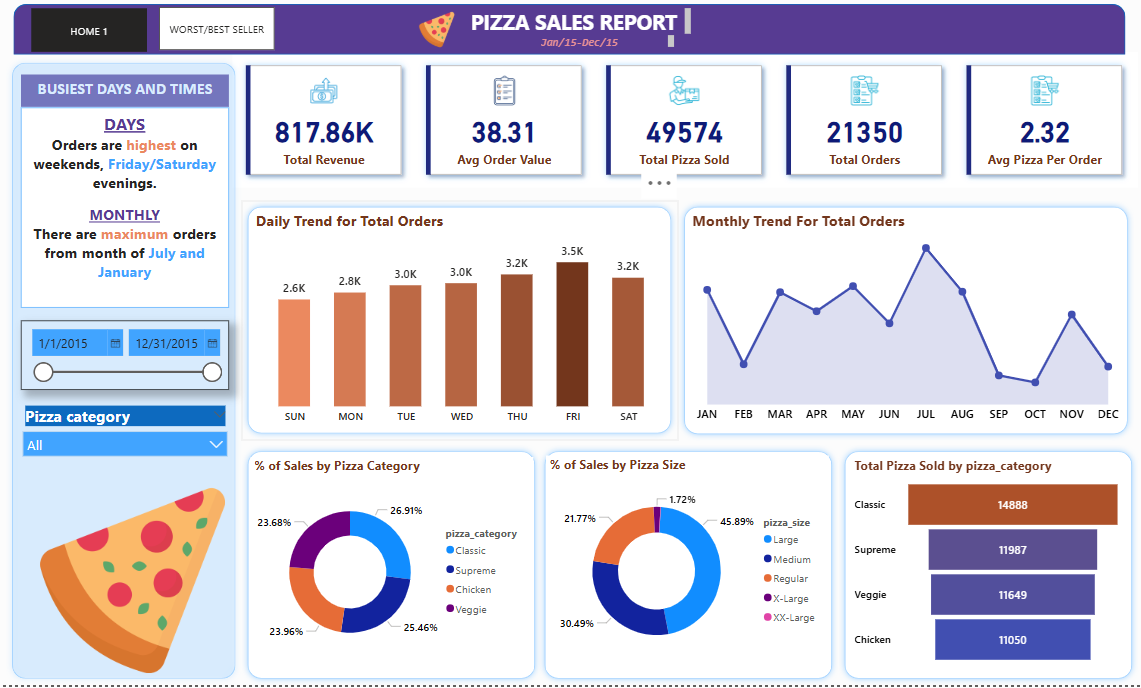

The dashboard page shown, as its layout file describes it:
{"tool":"powerbi","page":{"name":"HOME 1","canvas":[1500,900],"ordinal":0},"visuals":[{"type":"cardVisual","fields":{"Data":["pizza_sales.Total Revenue","pizza_sales.Avg Order Value","pizza_sales.Total Pizza Sold","pizza_sales.Total Orders","pizza_sales.Avg Pizza Per Order"]},"box":[310,78,1176,176],"z":0},{"type":"textbox","box":[36,108,270,42],"z":500},{"type":"shape","box":[25.7,15.7,1444.3,65.7],"z":1000},{"type":"textbox","box":[614.1,16,296.4,44.4],"z":2000},{"type":"textbox","box":[704.6,51.5,182.8,31.9],"z":3000},{"type":"image","box":[536,19.5,78.1,58.6],"z":4000},{"type":"shape","box":[321.3,271.6,566.2,310.6],"z":5000},{"type":"columnChart","title":"Daily Trend for Total Orders","fields":{"Category":["pizza_sales.Order Day"],"Y":["pizza_sales.Total Orders"]},"box":[335.5,284,544.9,285.8],"z":6000},{"type":"shape","box":[888.3,270.8,592.2,311.7],"z":7000},{"type":"areaChart","title":"Monthly Trend For Total Orders","fields":{"Y":["pizza_sales.Total Orders"],"Category":["pizza_sales.Order Month"]},"box":[901.9,284.4,568.8,284.4],"z":8000},{"type":"shape","box":[321.4,588.3,389.6,311.7],"z":9000},{"type":"shape","box":[707.1,588.3,389.6,311.7],"z":10000},{"type":"shape","box":[1096.8,588.3,389.6,311.7],"z":11000},{"type":"donutChart","title":"% of Sales by Pizza Category","fields":{"Category":["pizza_sales.pizza_category"],"Y":["pizza_sales.Total Revenue"]},"box":[332.9,604.3,367.1,277.1],"z":12000},{"type":"donutChart","title":"% of Sales by Pizza Size","fields":{"Y":["pizza_sales.Total Revenue"],"Category":["pizza_sales.pizza_size"]},"box":[717.1,602.9,367.1,278.6],"z":13000},{"type":"shape","box":[16,84,306,816],"z":13500},{"type":"funnel","fields":{"Category":["pizza_sales.pizza_category"],"Y":["pizza_sales.Total Pizza Sold"]},"box":[1112.9,604.3,357.1,277.1],"z":14000},{"type":"textbox","box":[36,150,270,260],"z":14001},{"type":"image","box":[48,632,262,266],"z":14002},{"type":"slicer","fields":{"Values":["pizza_sales.pizza_category"]},"box":[28,532,286,74],"z":14003},{"type":"slicer","fields":{"Values":["pizza_sales.order_date"]},"box":[36,426,270,90],"z":14004},{"type":"pageNavigator","box":[48,22,150,56],"z":14005},{"type":"pageNavigator","box":[214,20,150,56],"z":14006}]}

Visuals, with their boxes in screenshot pixels (x1, y1, x2, y2), scaled from the page's 1500x900 canvas onto the 1141x688 screenshot:
cardVisual - pizza_sales.Total Revenue x pizza_sales.Avg Order Value: detection(236, 60, 1130, 194)
textbox: detection(27, 83, 233, 115)
shape: detection(20, 12, 1118, 62)
textbox: detection(467, 12, 693, 46)
textbox: detection(536, 39, 675, 64)
image: detection(408, 15, 467, 60)
shape: detection(244, 208, 675, 445)
"Daily Trend for Total Orders" columnChart: detection(255, 217, 670, 436)
shape: detection(676, 207, 1126, 445)
"Monthly Trend For Total Orders" areaChart: detection(686, 217, 1119, 435)
shape: detection(244, 450, 541, 687)
shape: detection(538, 450, 834, 687)
shape: detection(834, 450, 1131, 687)
"% of Sales by Pizza Category" donutChart: detection(253, 462, 532, 674)
"% of Sales by Pizza Size" donutChart: detection(545, 461, 825, 674)
shape: detection(12, 64, 245, 687)
funnel - pizza_sales.pizza_category x pizza_sales.Total Pizza Sold: detection(847, 462, 1118, 674)
textbox: detection(27, 115, 233, 313)
image: detection(37, 483, 236, 686)
slicer - pizza_sales.pizza_category: detection(21, 407, 239, 463)
slicer - pizza_sales.order_date: detection(27, 326, 233, 394)
pageNavigator: detection(37, 17, 151, 60)
pageNavigator: detection(163, 15, 277, 58)
